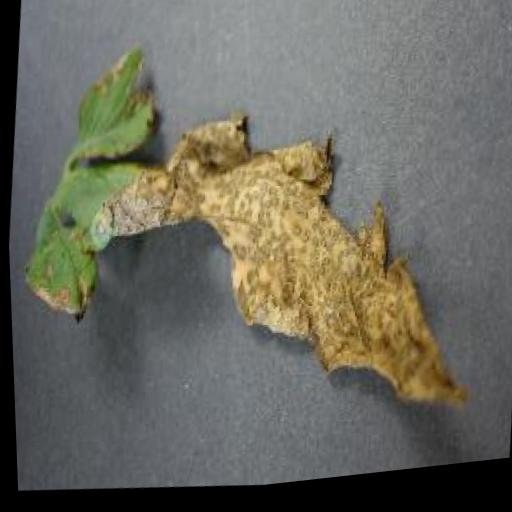Bacterial Spot: (1, 2, 509, 466)
